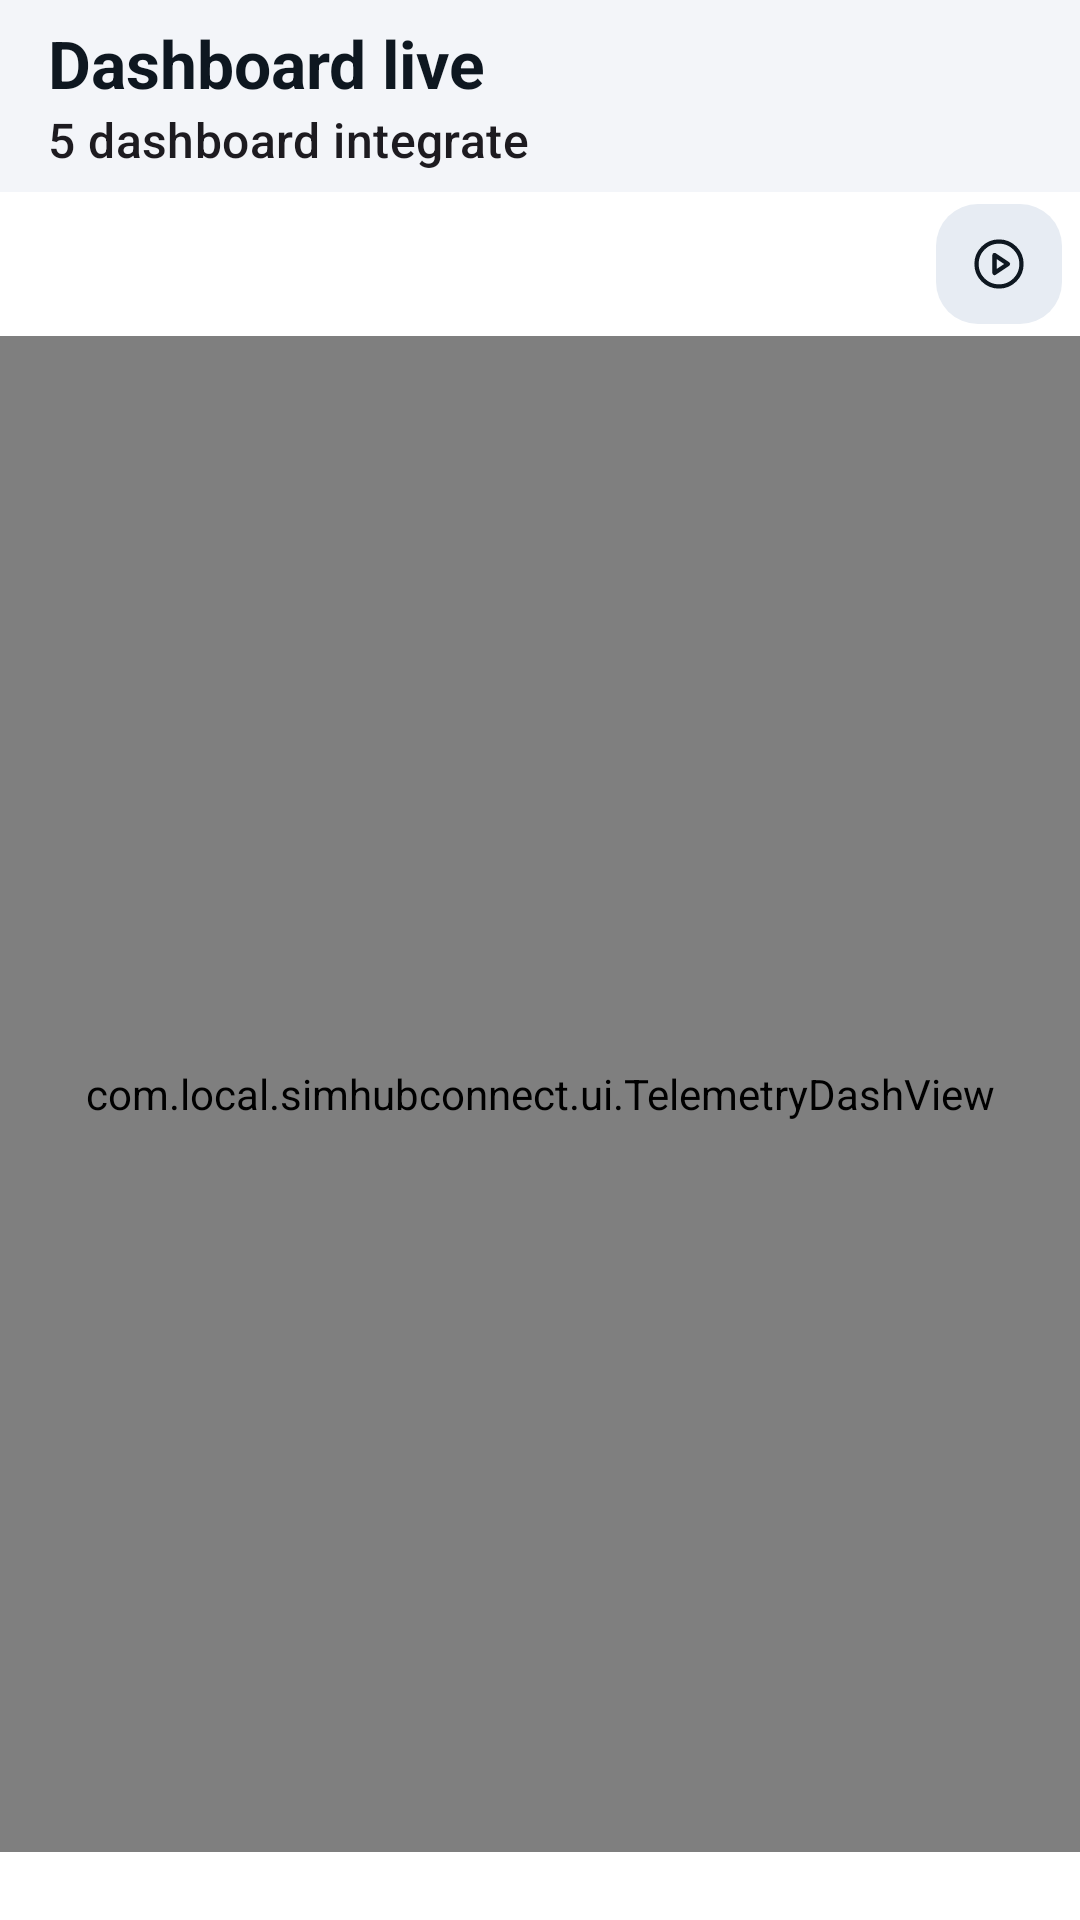

Screen size 1080px×1920px. Icon name, then its center in pixels as (x,y):
Attiva o disattiva la modalità demo: (999,264)
